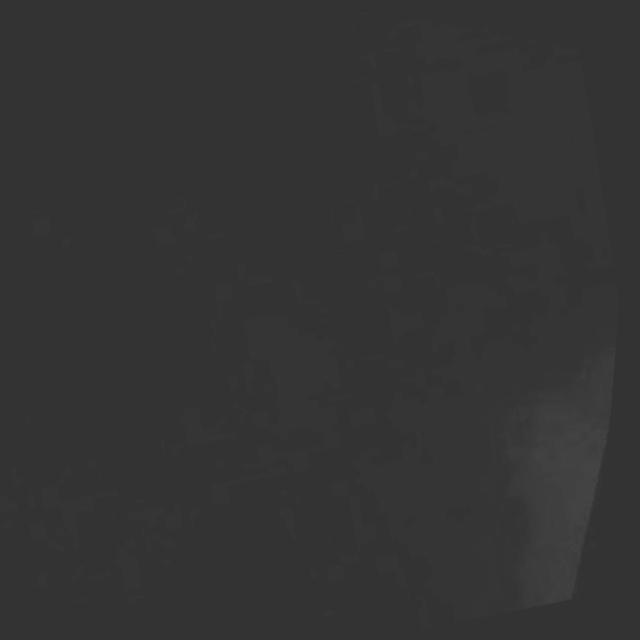aeroplane: (311, 277, 389, 362)
